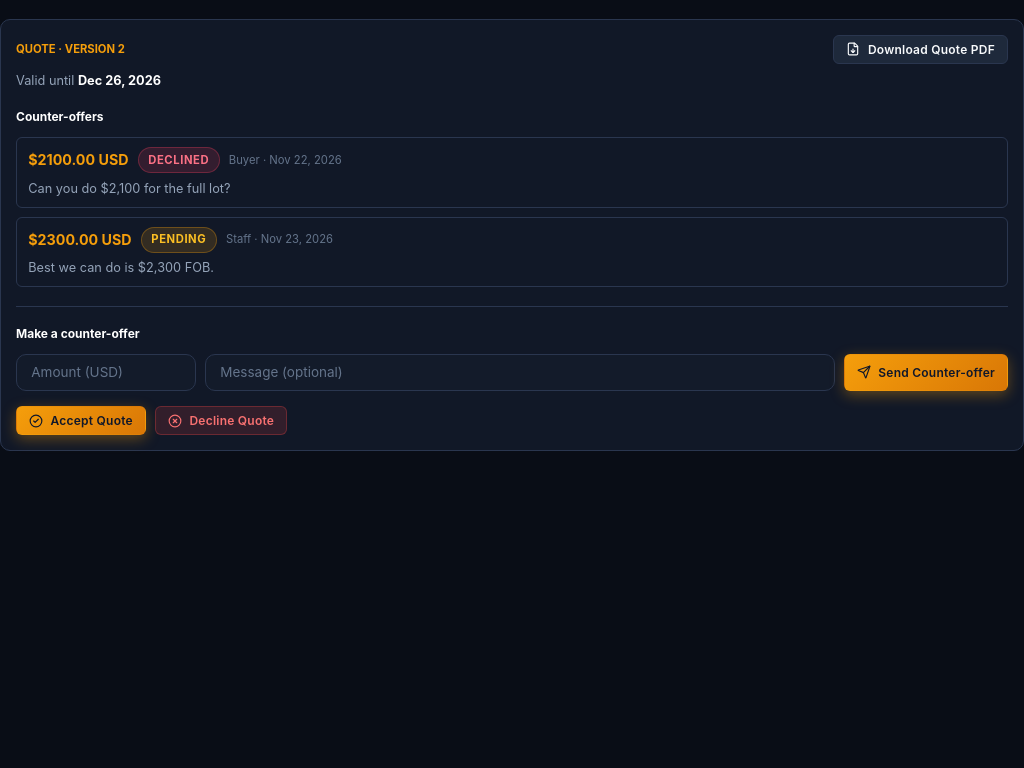
Test: QuotePanel — buyer actions › submits a counter-offer and shows it in the thread
Step 1. Type "2200" into the number field named "Counter-offer amount" → (106, 372), box 16,354 -> 196,391
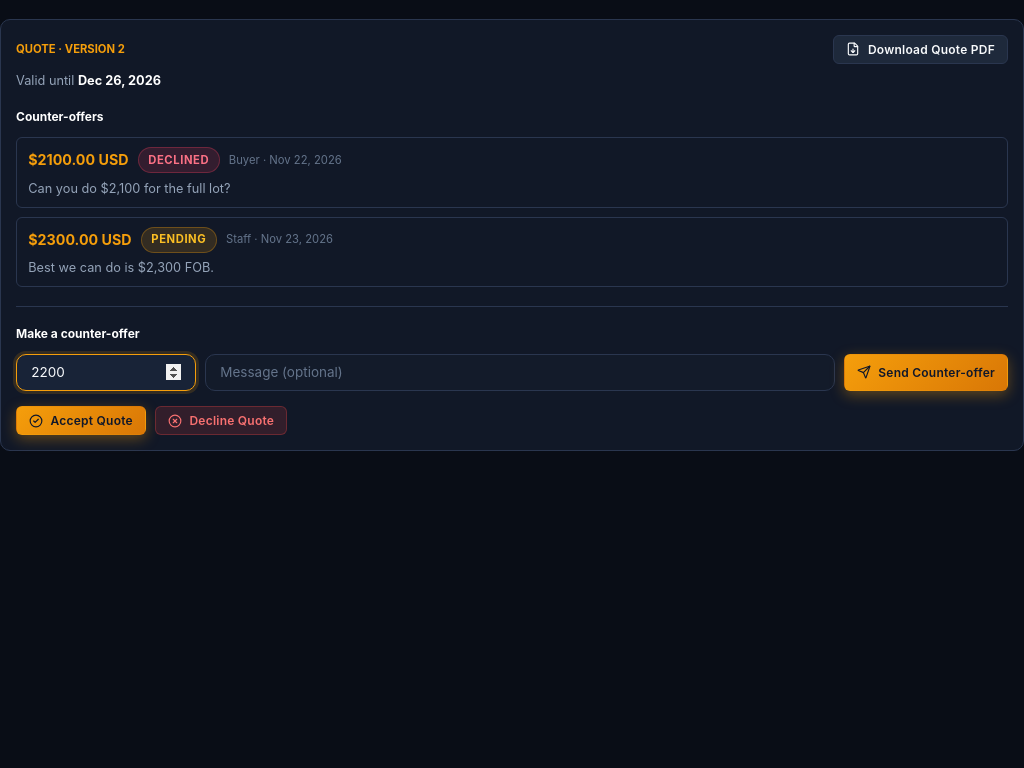
Step 2. Type "Meet me at $2,200?" into the field named "Counter-offer message" → (520, 372), box 205,354 -> 835,391
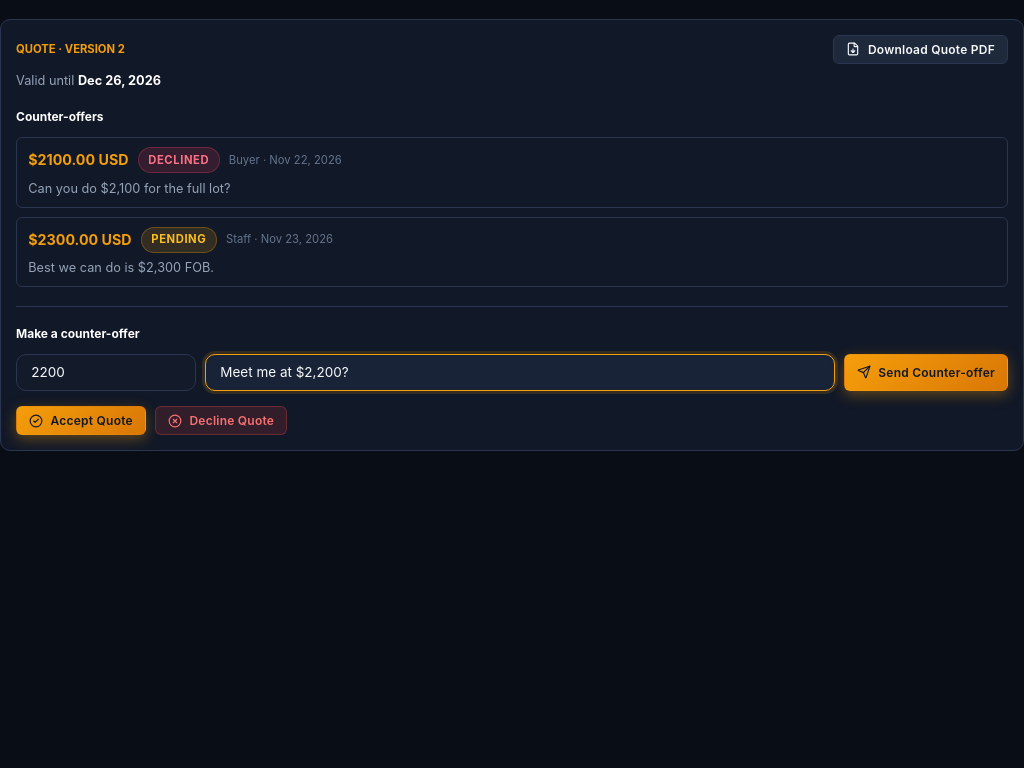
Step 3. Click the button "Send Counter-offer" → (926, 372), box 844,354 -> 1008,391
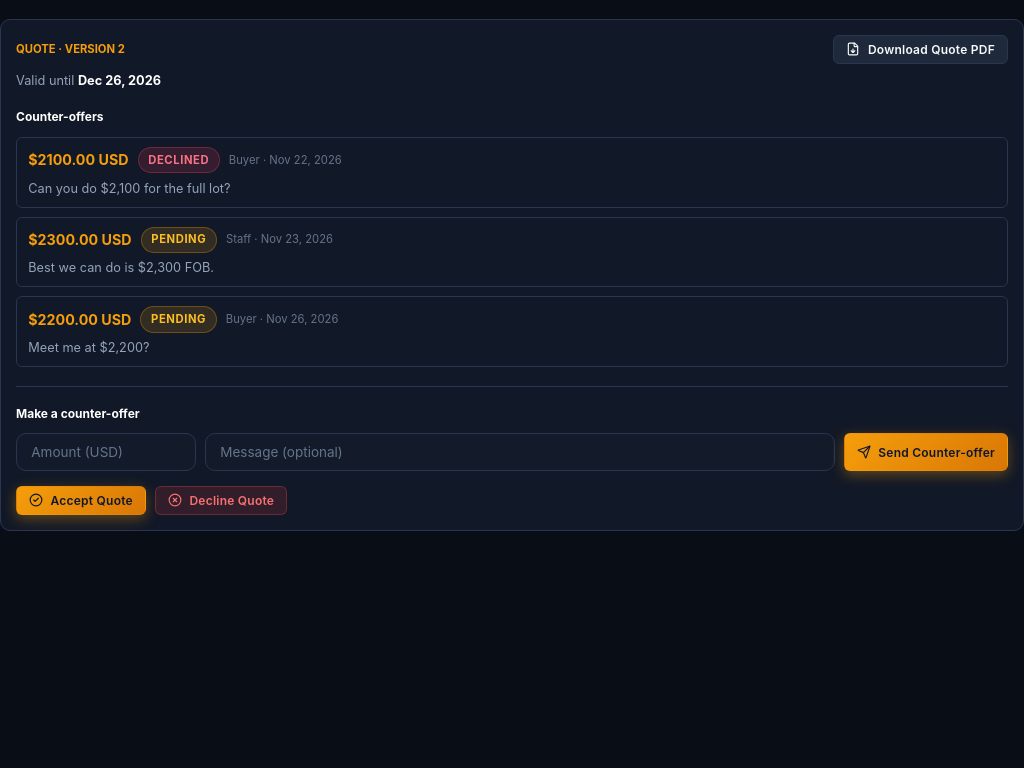
Expected: the text "$2200.00 USD" is shown, 28,309 -> 131,330
Expected: the text "Meet me at $2,200?" is shown, 28,340 -> 150,355
